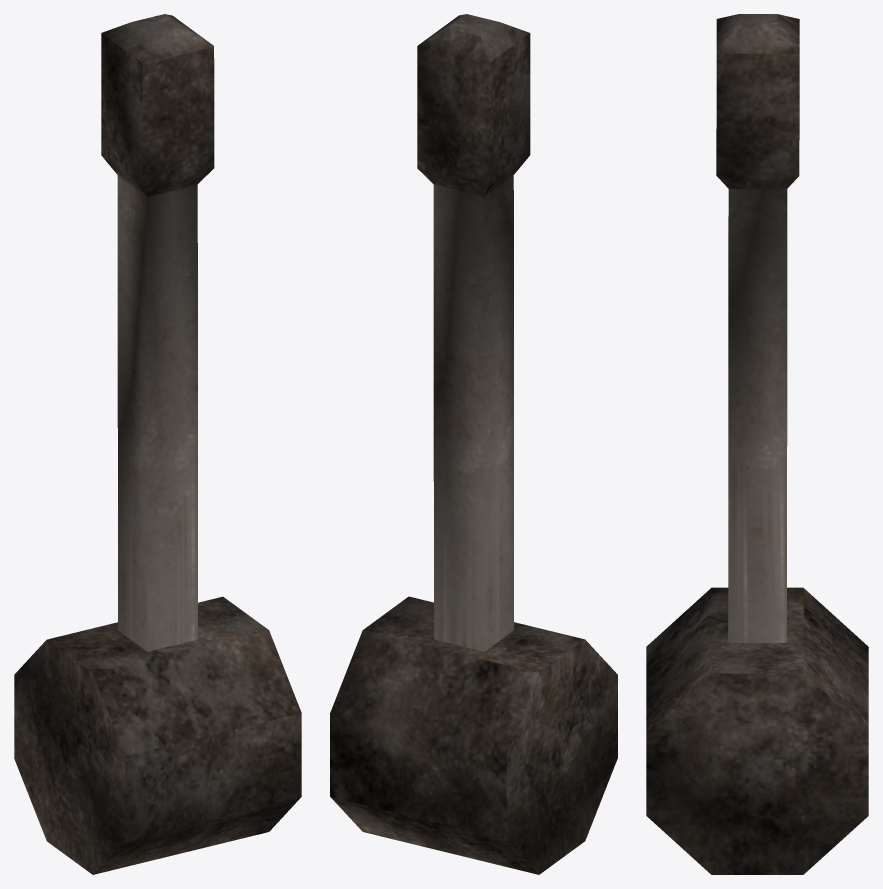
The model's file is PalancaInterruptor.obj.
3 renders of one model, left to right at view 1: azimuth 30°, elevation 25°; view 2: azimuth 150°, elevation 25°; view 3: azimuth 270°, elevation 25°, orthographic.
Visible parts, largest first — view 1: PalancaInterruptor; view 2: PalancaInterruptor; view 3: PalancaInterruptor.
Part boxes in pixels (x1,y1,x2,y2): PalancaInterruptor: [14, 14, 301, 874]; PalancaInterruptor: [330, 14, 617, 874]; PalancaInterruptor: [646, 14, 868, 874].
Size of the model in its own units: 1.23 by 5.4 by 1.34.
1 material, 1 textured.
